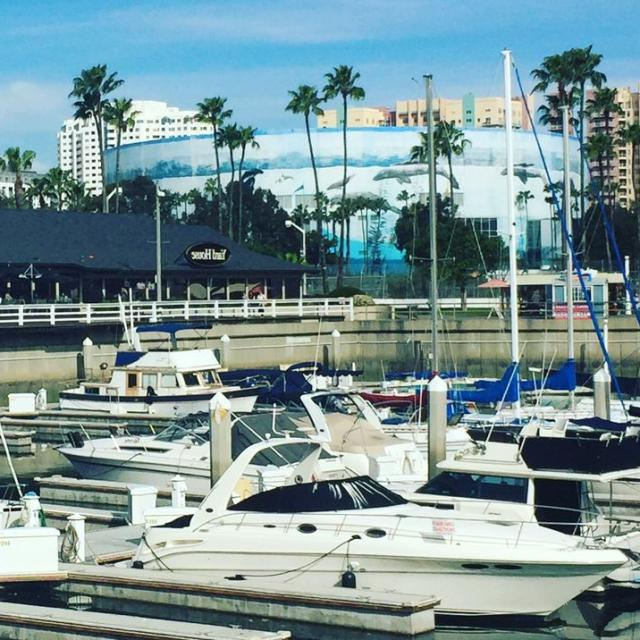houseboat: (51, 462, 600, 632)
passenger ship: (22, 315, 251, 450)
